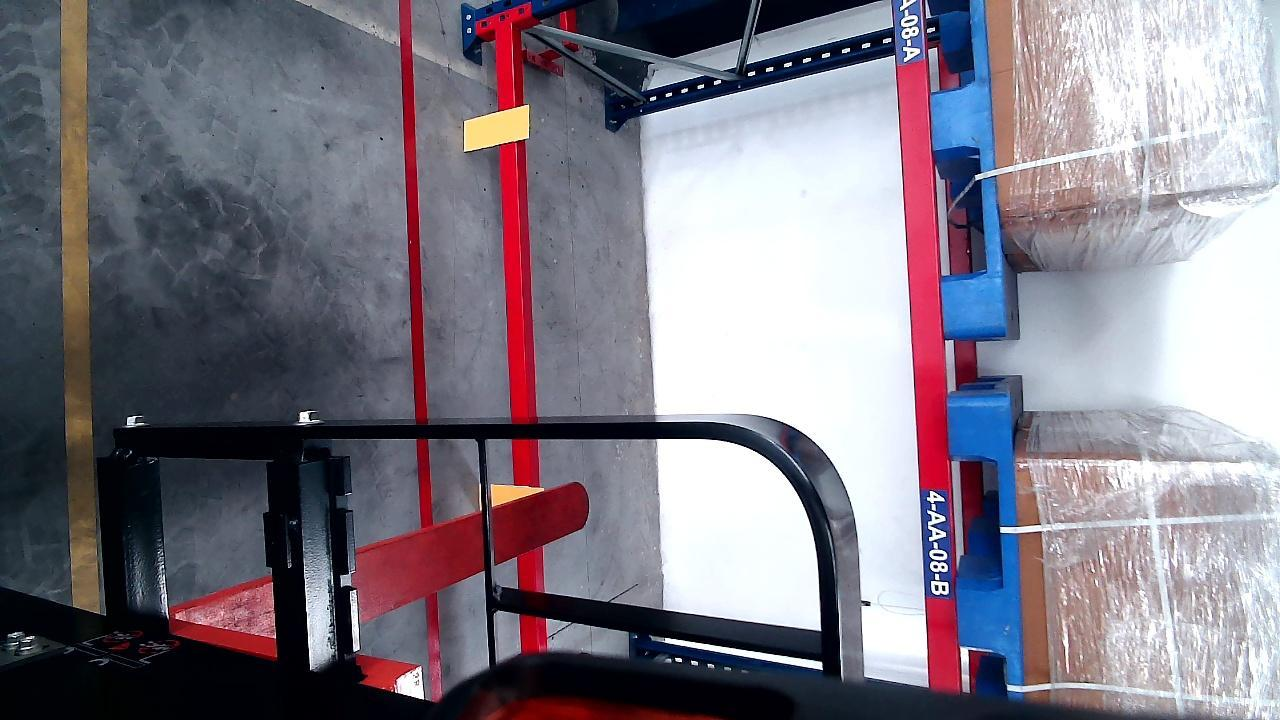red_line: (398, 0, 434, 532)
yellow_line: (58, 0, 99, 614)
